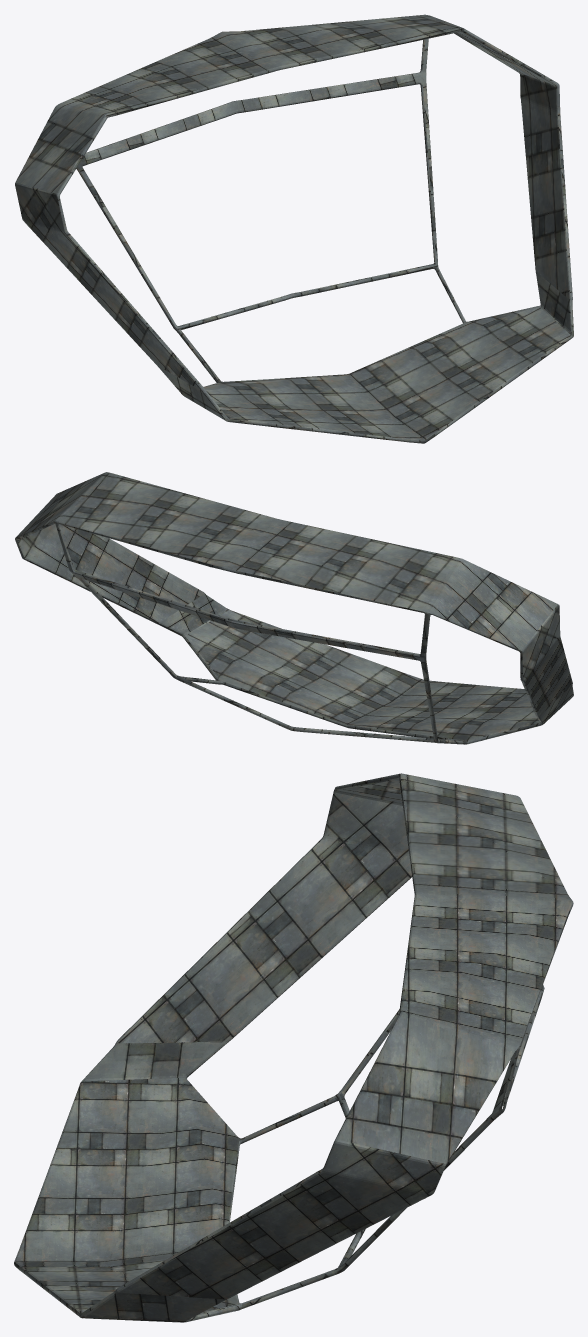
The model's file is ship.glb.
3 views of the same model, one above another, from view 1: azimuth 30°, elevation 25°; view 2: azimuth 150°, elevation 25°; view 3: azimuth 270°, elevation 25° (orthographic). The views are drawn at different scales.
Parts seen in each view (by area): view 1: Base; view 2: Base; view 3: Base.
Part boxes in pixels (<box>): Base: <box>15,14,573,443</box>; Base: <box>15,472,573,744</box>; Base: <box>14,773,573,1322</box>.
Bounding box in the file's own units: 2.91 × 1.48 × 2.01.
3 materials, 3 textured.
